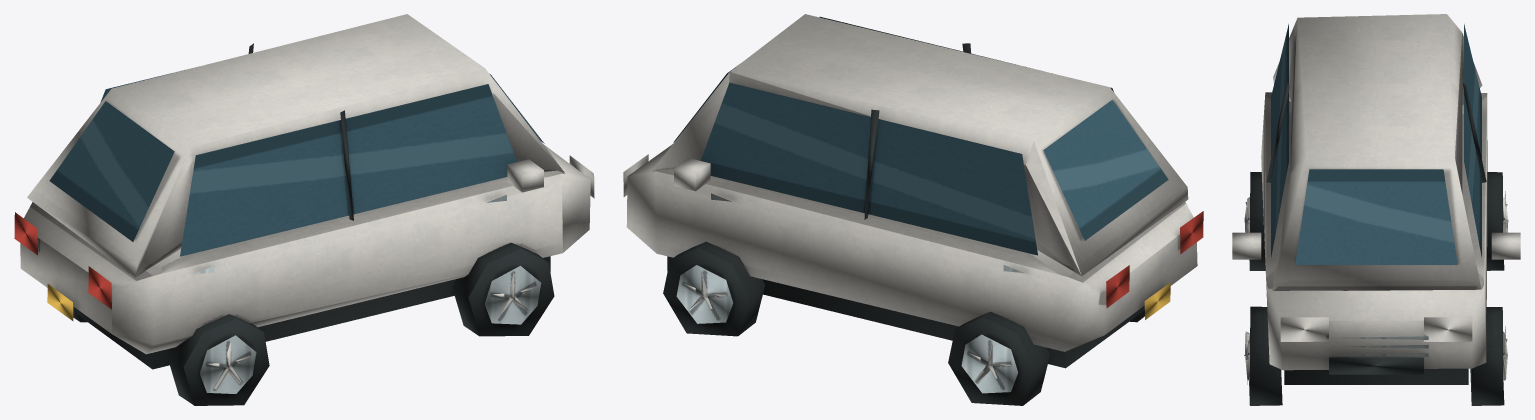
The model's file is kei_wagon.lod1.obj.
3 renders of one model, left to right at view 1: azimuth 30°, elevation 25°; view 2: azimuth 150°, elevation 25°; view 3: azimuth 270°, elevation 25°, orthographic. The views are drawn at different scales.
Visible parts, largest first — view 1: kei_wagon; view 2: kei_wagon; view 3: kei_wagon.
Boxes of the visible parts, box(x1,y1,x2,y2) form: kei_wagon: box(14, 14, 594, 405); kei_wagon: box(623, 14, 1203, 405); kei_wagon: box(1232, 14, 1520, 405).
Bounding box in the file's own units: 3.51 × 1.72 × 1.85.
1 material, 1 textured.
